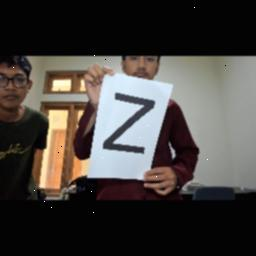z: (101, 90, 155, 162)
